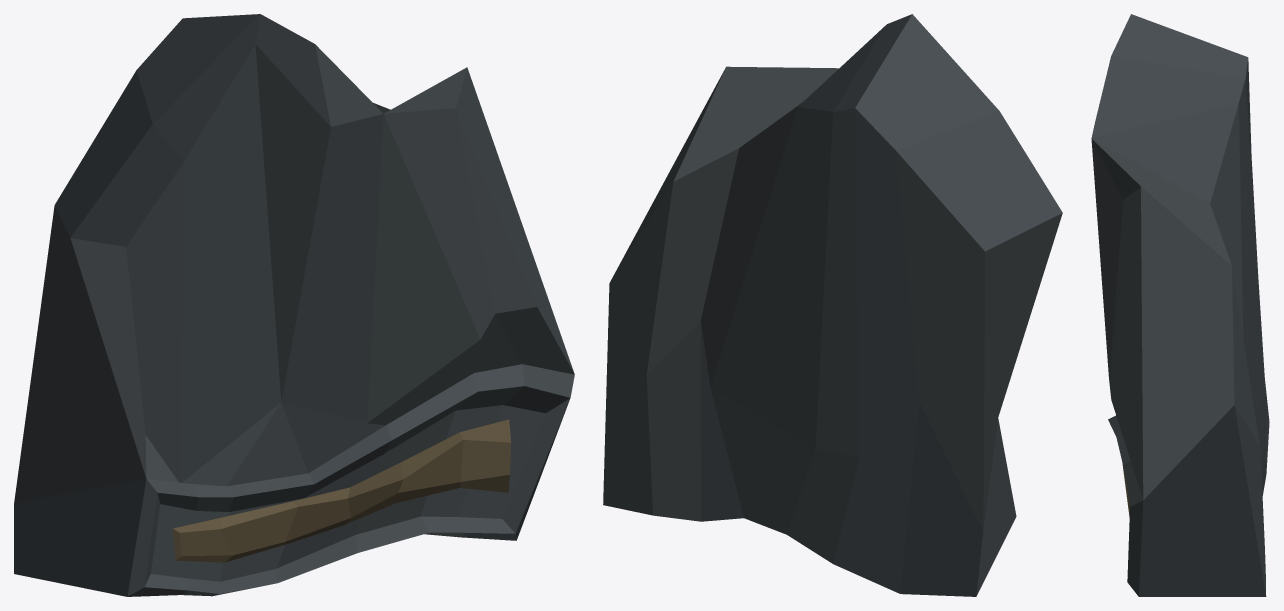
File: Bland Grave 2.fbx
3 renders of one model, left to right at view 1: azimuth 30°, elevation 25°; view 2: azimuth 150°, elevation 25°; view 3: azimuth 270°, elevation 25°, orthographic. The views are drawn at different scales.
Visible parts, largest first — view 1: Grave, Plaque; view 2: Grave; view 3: Grave.
Boxes of the visible parts, left/top/right/bottom form: Grave: left=14, top=14, right=574, bottom=596; Plaque: left=173, top=419, right=511, bottom=562; Grave: left=603, top=14, right=1062, bottom=596; Grave: left=1091, top=14, right=1269, bottom=596.
Bounding box in the file's own units: 223 × 255 × 84.19.
